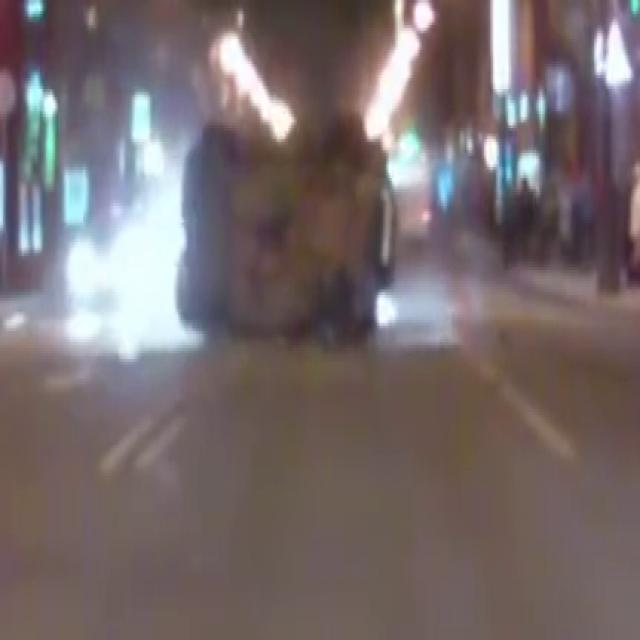accident: (170, 104, 412, 343)
